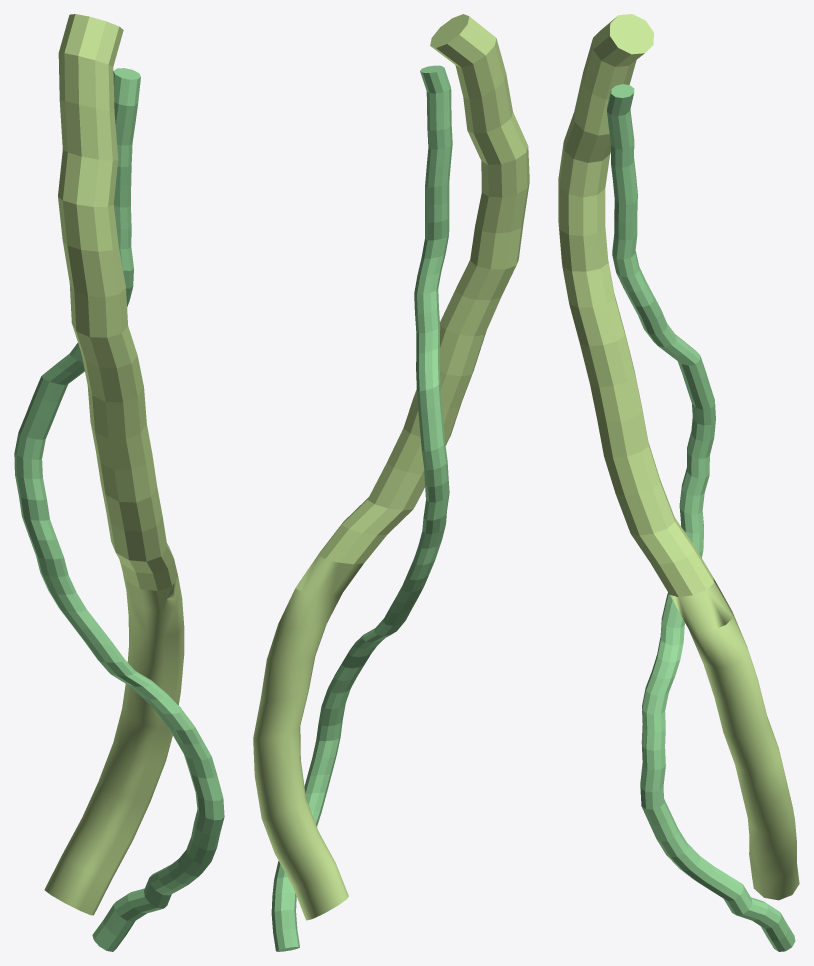
The model's file is VinesCC.fbx.
3 views of the same model, side by side, from view 1: azimuth 30°, elevation 25°; view 2: azimuth 150°, elevation 25°; view 3: azimuth 270°, elevation 25° (orthographic). The views are drawn at different scales.
Visible parts, largest first — view 1: group_703158038, group_791671560; view 2: group_703158038, group_791671560; view 3: group_703158038, group_791671560.
Boxes of the visible parts, x1,y1,x2,y2 form: group_703158038: (44,14,184,915); group_791671560: (14,68,224,951); group_703158038: (253,14,529,920); group_791671560: (271,65,452,951); group_703158038: (558,14,799,900); group_791671560: (607,84,795,951).
Size of the model in its own units: 0.0854 by 0.4028 by 0.0993.
